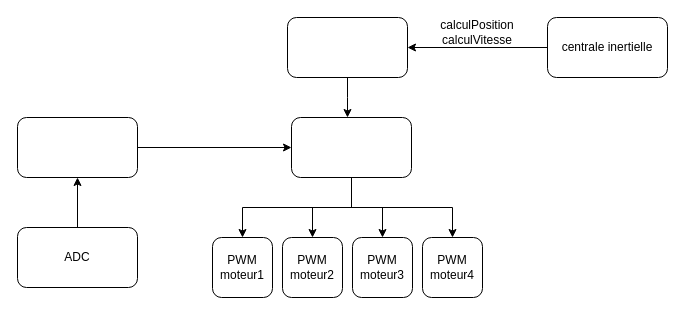
This 685x315 diagram has some shape labels left out. The shapes that lost their labels are listed below. From the top down, each one's box as (x1, y1, x2, y2) in pixels, then its label:
(286, 16, 408, 78): IA
(16, 116, 138, 178): MesureCourant
(290, 116, 412, 178): Asservissement
